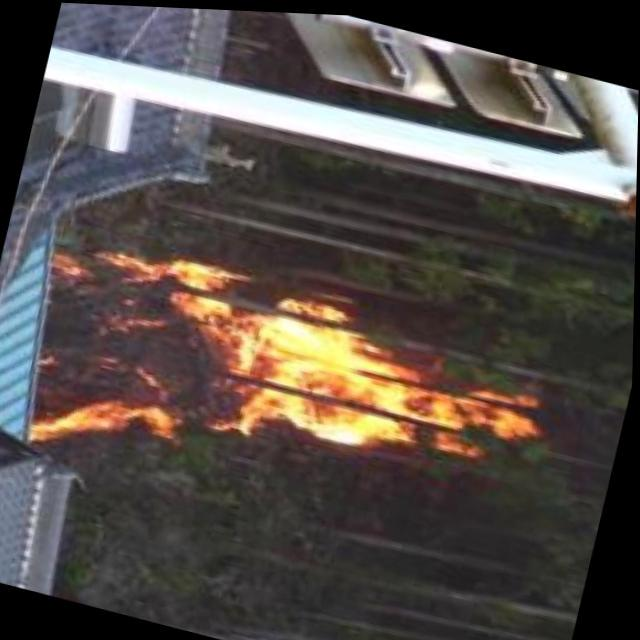fire: (25, 225, 553, 540)
